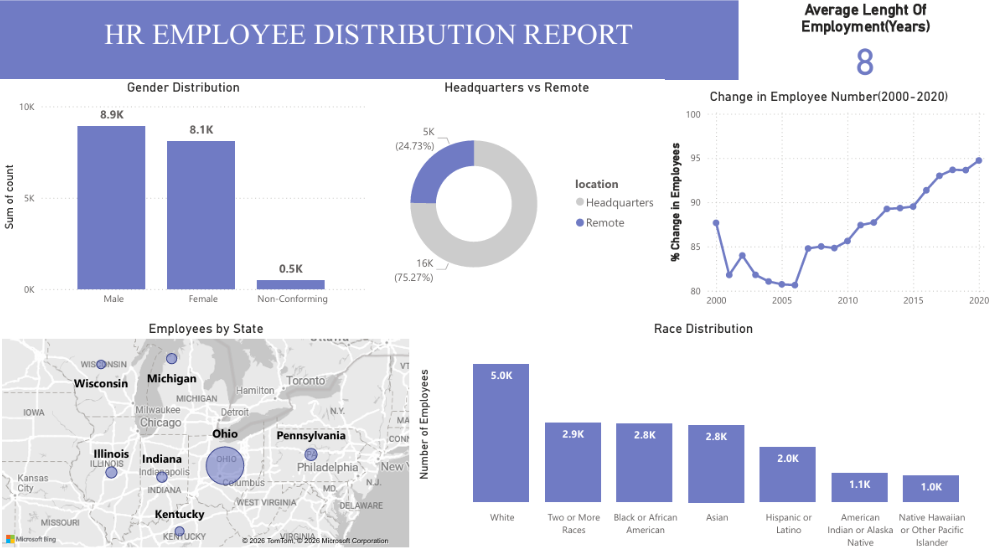

This screenshot's page, from the dashboard's own definition file:
{"tool":"powerbi","page":{"name":"Page 1","canvas":[1280,720],"ordinal":0},"visuals":[{"type":"textbox","box":[0,0,953.3,101.7],"z":0},{"type":"card","title":"Average Lenght Of Employment(Years)","fields":{"Values":["Sum(avg_length_of_employment (question 5).avg_length_of_employment)"]},"box":[953.7,0,327.1,102],"z":1000},{"type":"columnChart","title":"Gender Distribution","fields":{"Category":["gender (question 1).gender"],"Y":["Sum(gender (question 1).count)"]},"box":[0,102,476.1,301.2],"z":2000},{"type":"donutChart","title":"Headquarters vs Remote","fields":{"Y":["Sum(location (question 4).count)"],"Category":["location (question 4).location"]},"box":[476.1,102,382.1,302.8],"z":3000},{"type":"lineChart","title":"Change in Employee Number(2000-2020)","fields":{"Category":["employee_change (question 10).year"],"Y":["Sum(employee_change (question 10).net_change_percent)"]},"box":[858.2,113.3,422.6,291.5],"z":4000},{"type":"map","title":"Employees by State","fields":{"Category":["state (question 9).location_state"],"Size":["Sum(state (question 9).count)"]},"box":[0,412.9,534.3,301.2],"z":5000},{"type":"clusteredColumnChart","title":"Race Distribution","fields":{"Category":["race (question 2).race"],"Y":["Sum(race (question 2).count)"]},"box":[534.3,412.9,746.5,301.2],"z":6000}]}

Visuals, with their boxes in screenshot pixels (x1, y1, x2, y2), scaled from the page's 1280x720 canvas onto the 994x550 screenshot:
textbox: region(0, 0, 740, 78)
"Average Lenght Of Employment(Years)" card: region(741, 0, 993, 78)
"Gender Distribution" columnChart: region(0, 78, 370, 308)
"Headquarters vs Remote" donutChart: region(370, 78, 666, 309)
"Change in Employee Number(2000-2020)" lineChart: region(666, 87, 993, 309)
"Employees by State" map: region(0, 315, 415, 545)
"Race Distribution" clusteredColumnChart: region(415, 315, 993, 545)
